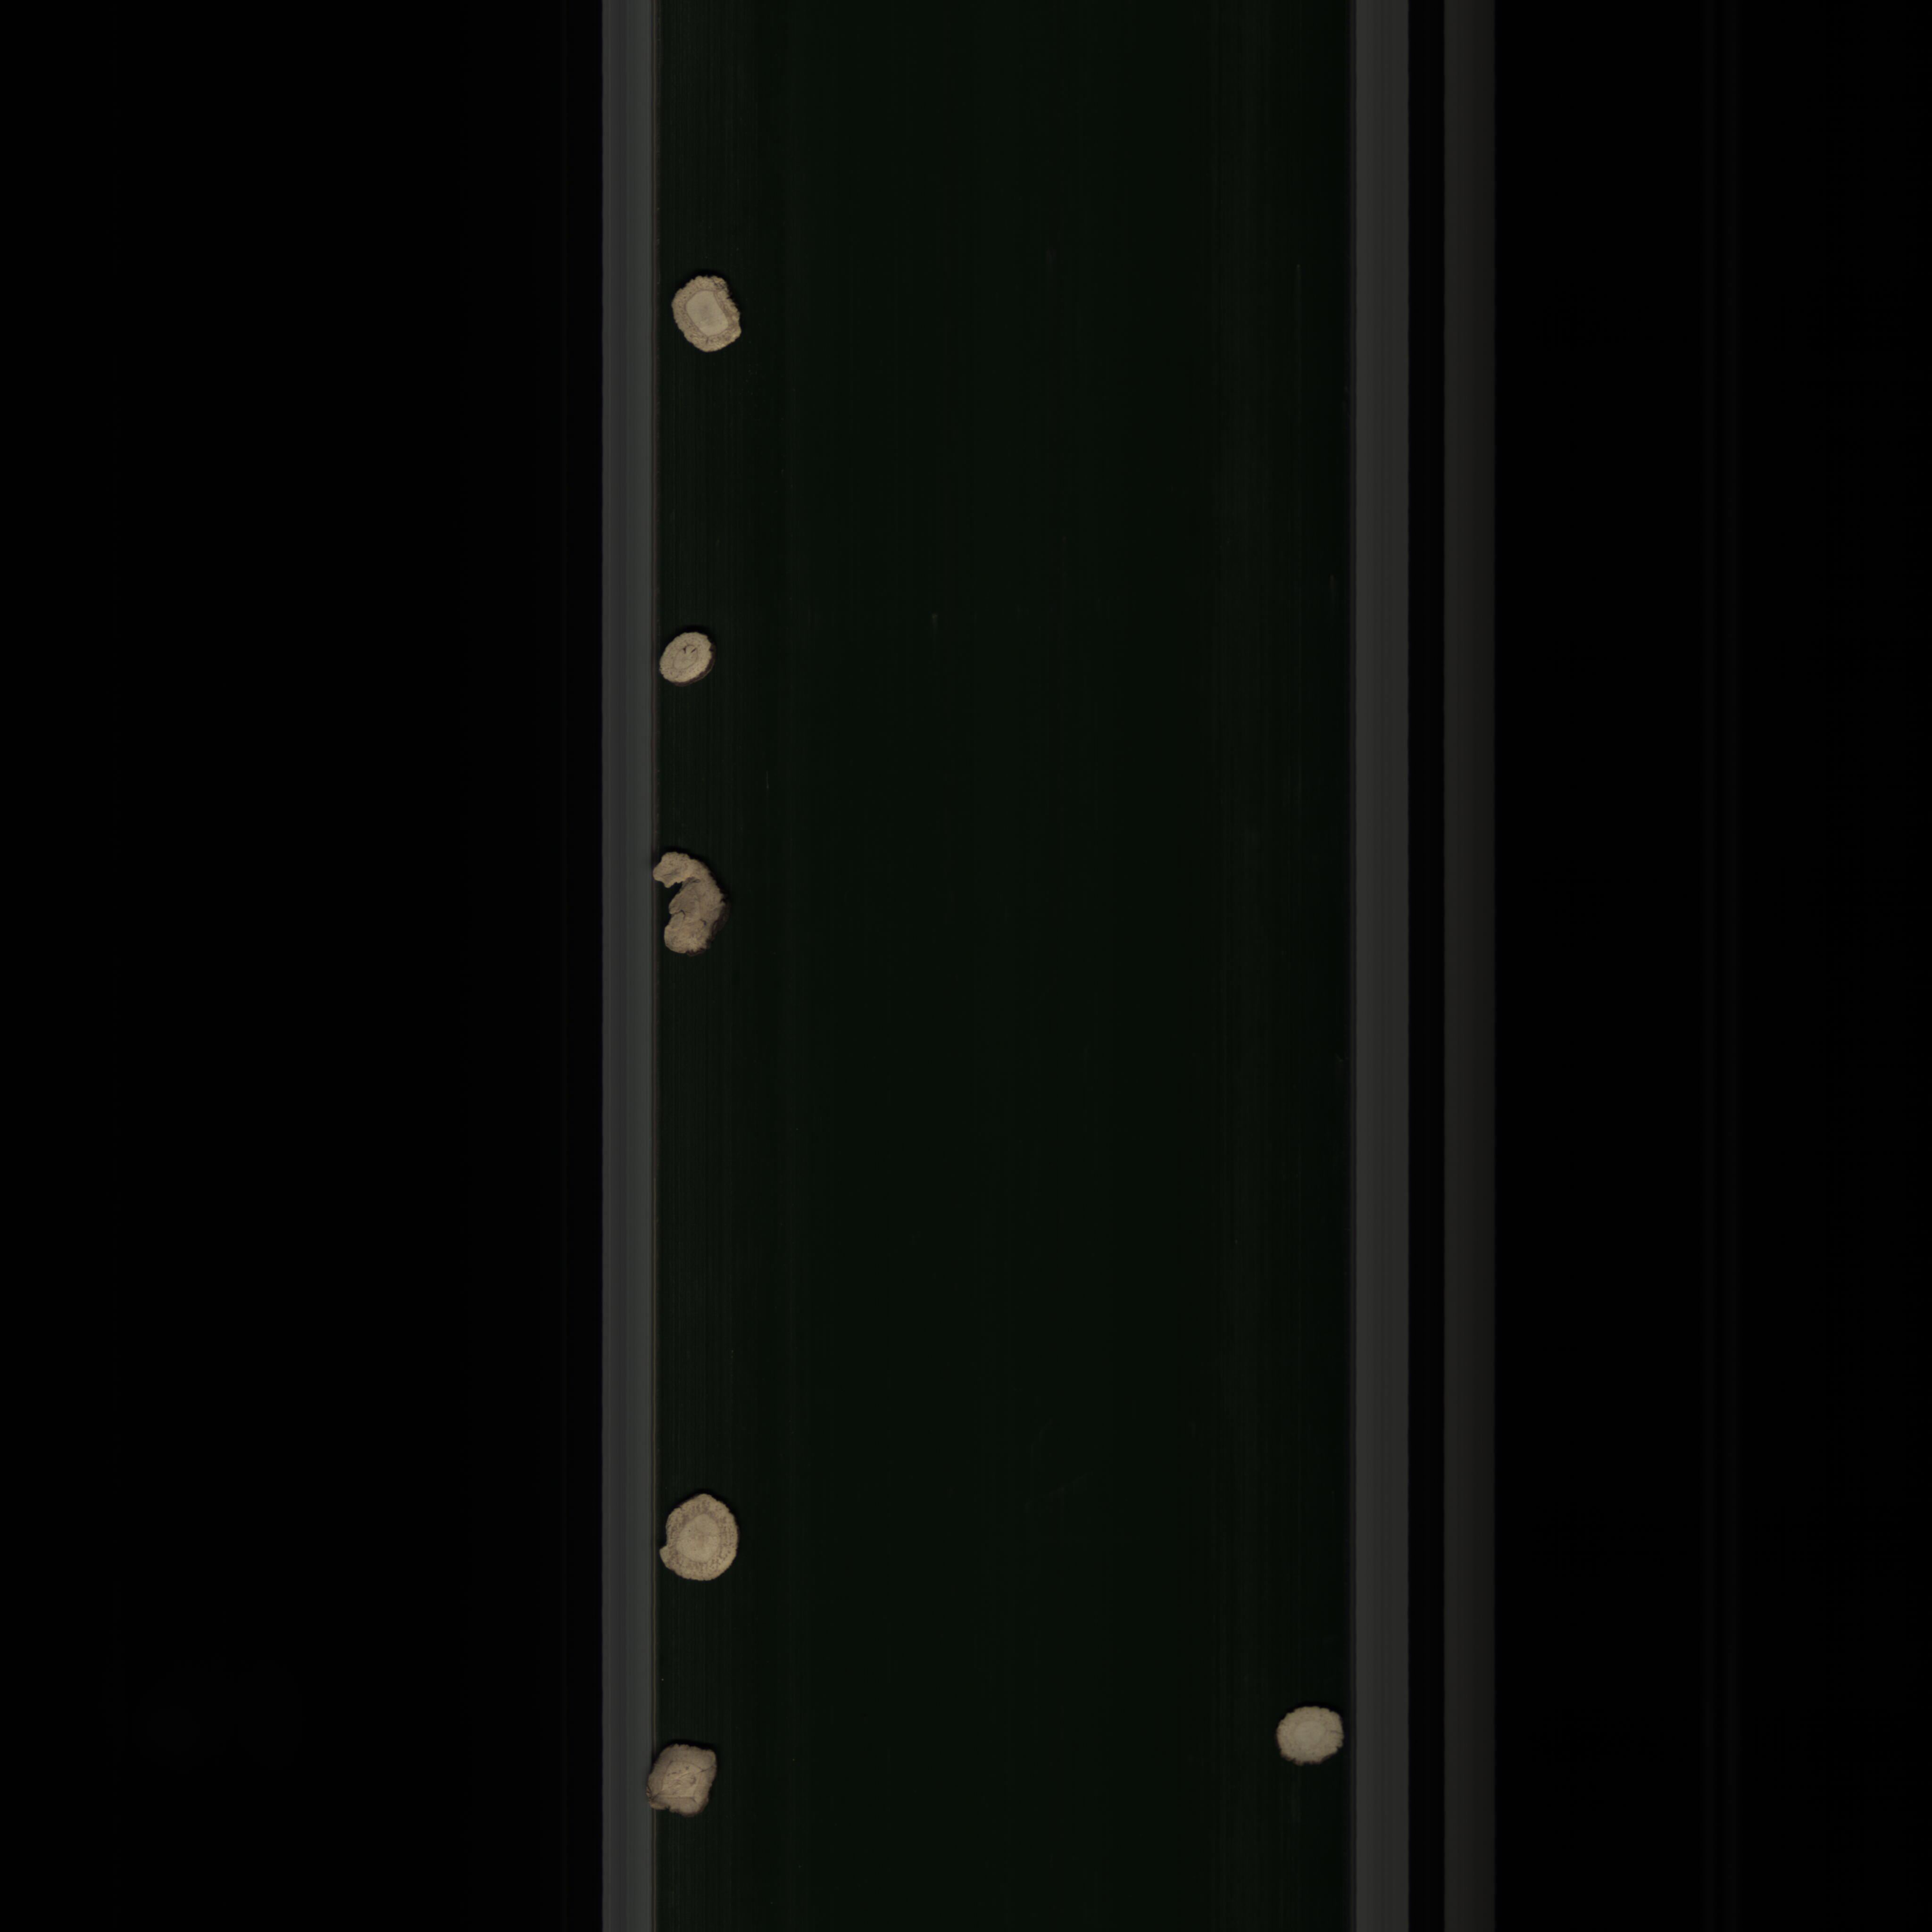debris: (649, 844, 738, 962)
moldy: (633, 1732, 771, 1840)
